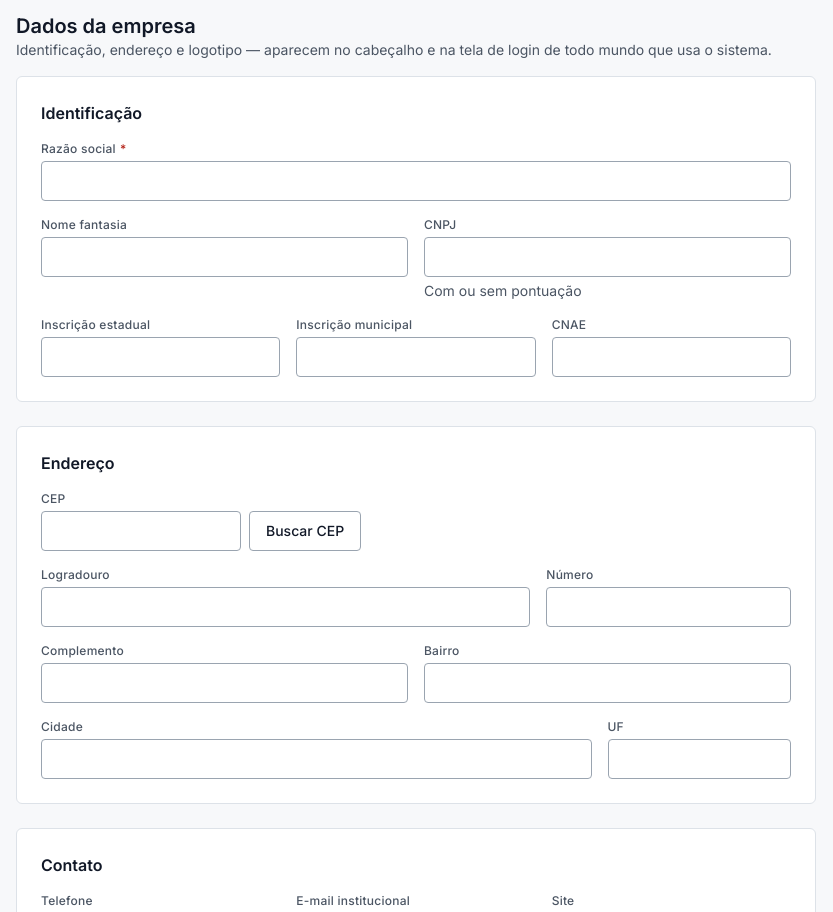
Test case: DadosEmpresaPagina › Buscar CEP preenche o endereco a partir da resposta da ViaCEP
Type "12345678" into the field labelled "CEP" at (141, 531), box [41,511,241,551]
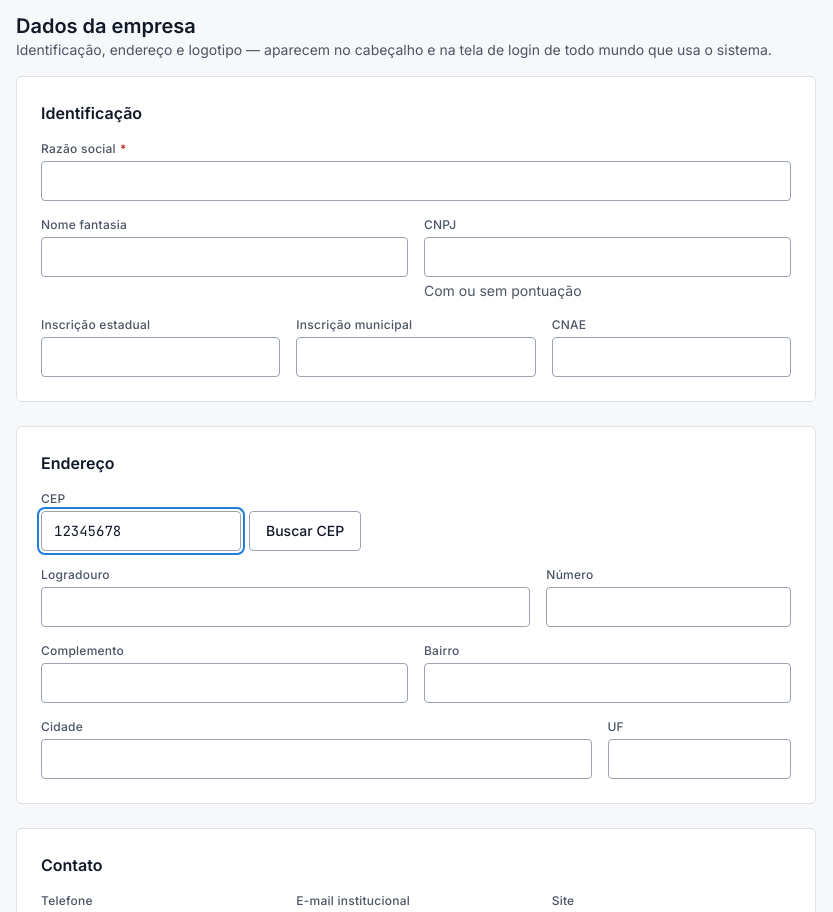
Click the button "Buscar CEP" at (305, 531), box [249,511,361,551]
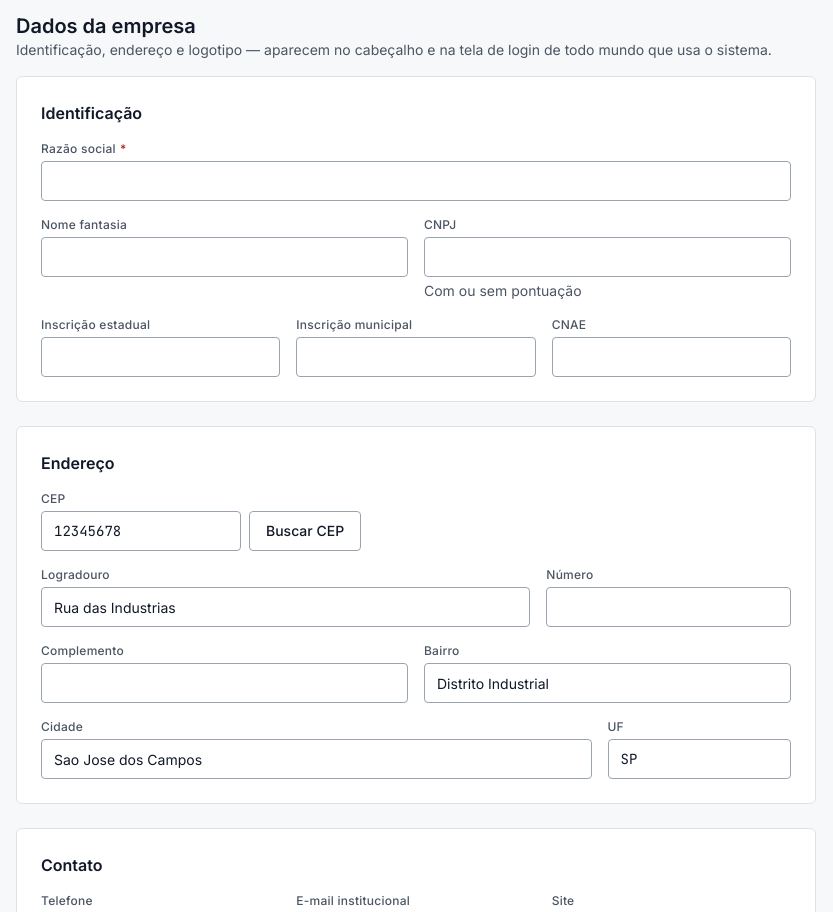
Expected: the field showing "SP" is shown, [608,739,791,779]
Now the field showing "Rua das Industrias" is shown, box [41,587,530,627]
Now the field showing "Sao Jose dos Campos" is shown, box [41,739,592,779]
